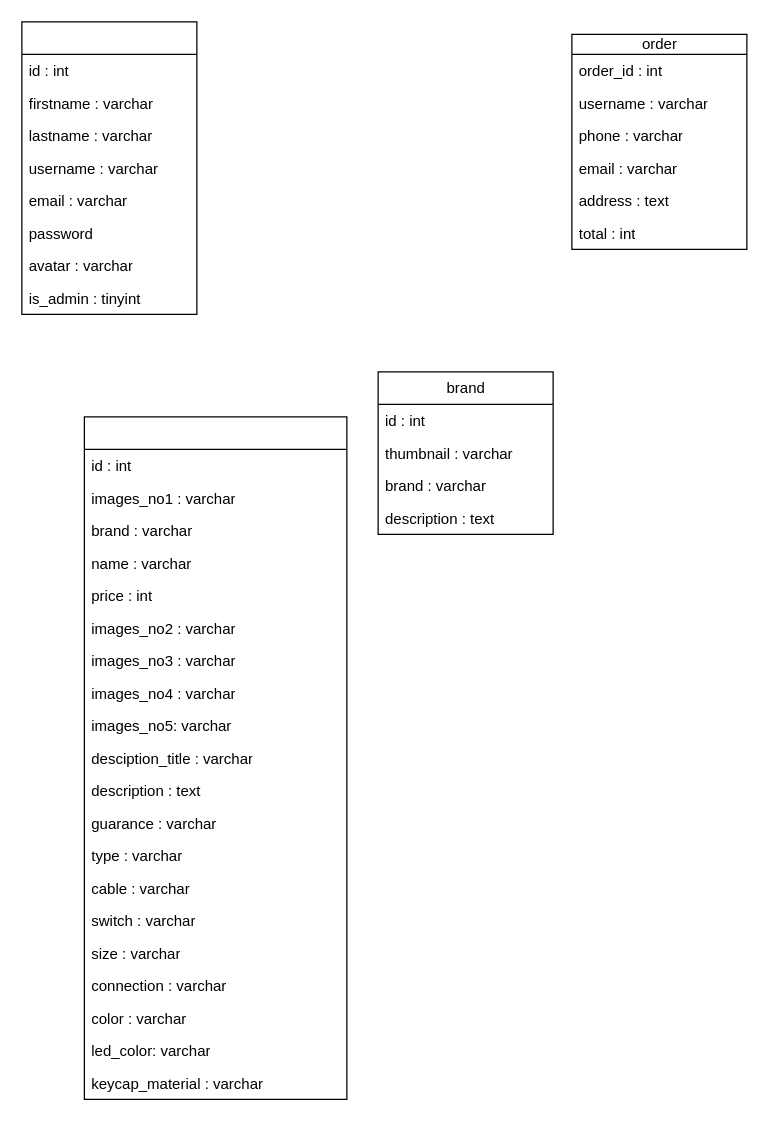
Image size: 769x1125. Some labels were removed from this diagram. Here are the shapes that lost their labels. From the top down, the box of each, then its label:
(21, 21, 197, 314): users
(83, 416, 347, 1099): products
